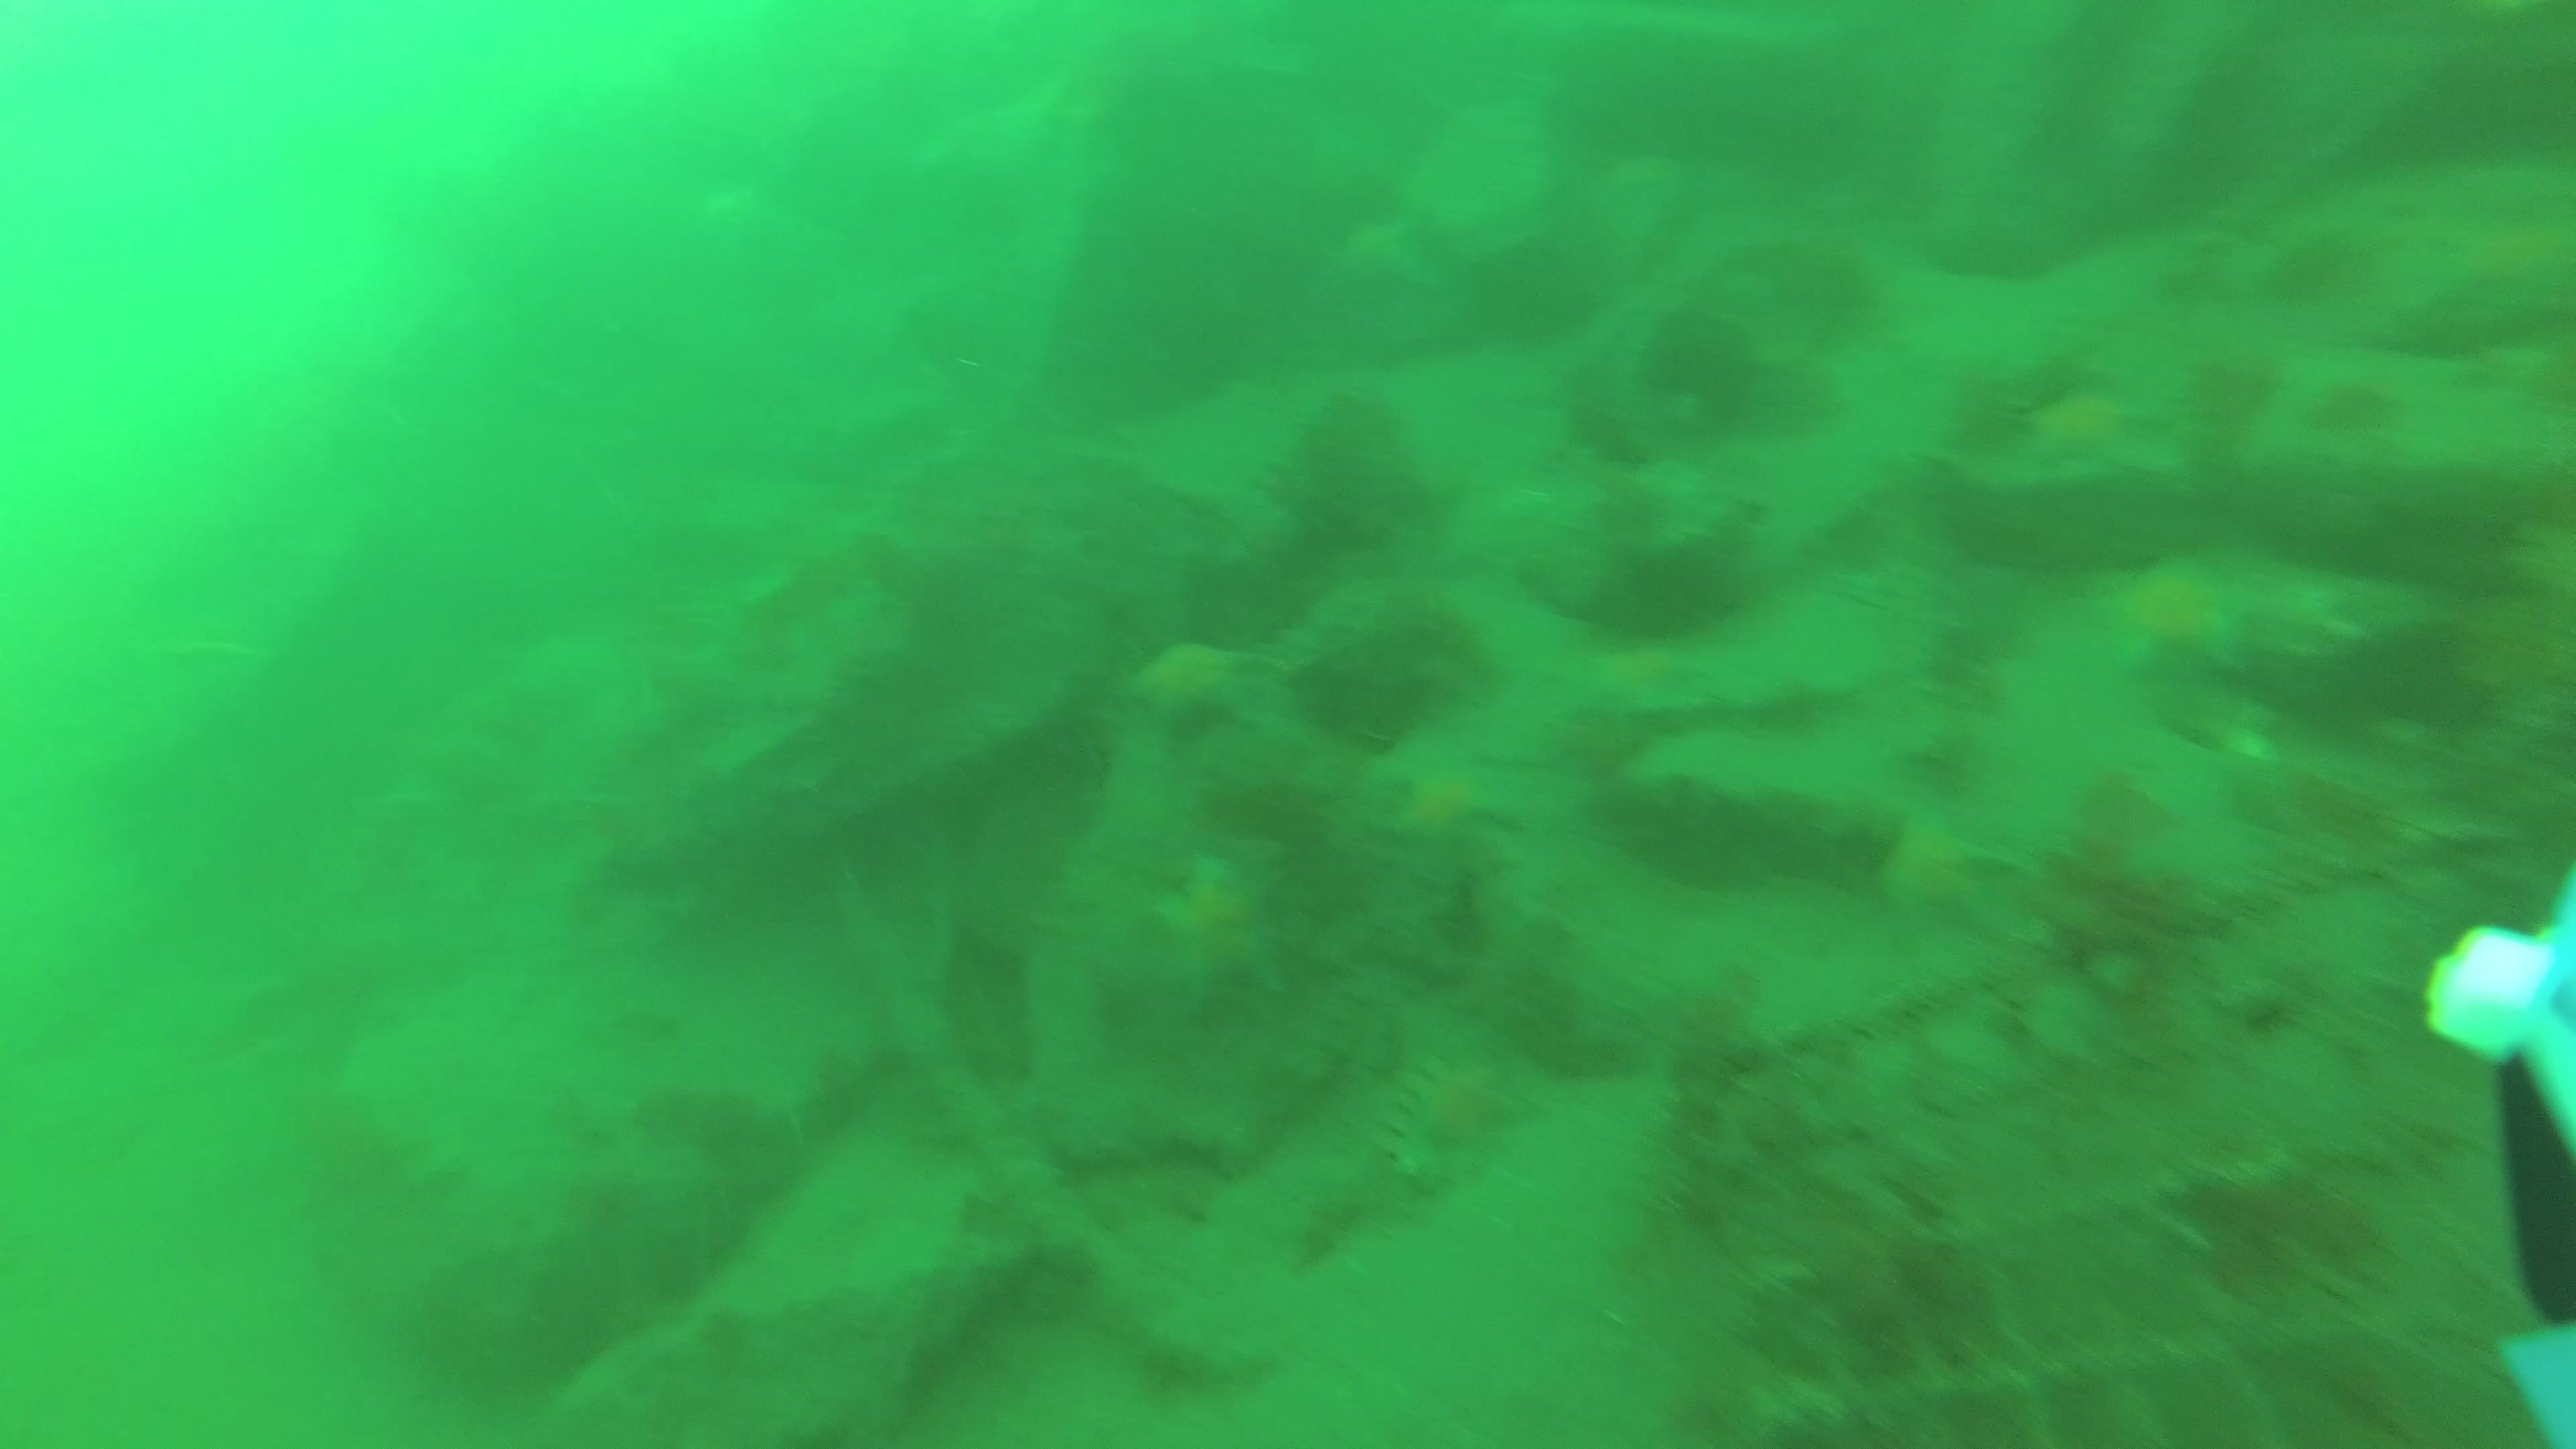starfish: (1150, 862, 1290, 1008), (1886, 801, 2020, 932), (2095, 563, 2245, 674), (1122, 642, 1258, 747), (1371, 770, 1516, 858), (2019, 391, 2143, 472)
